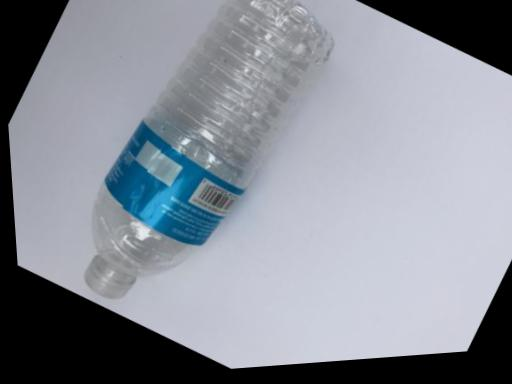plastic: (10, 0, 333, 301)
